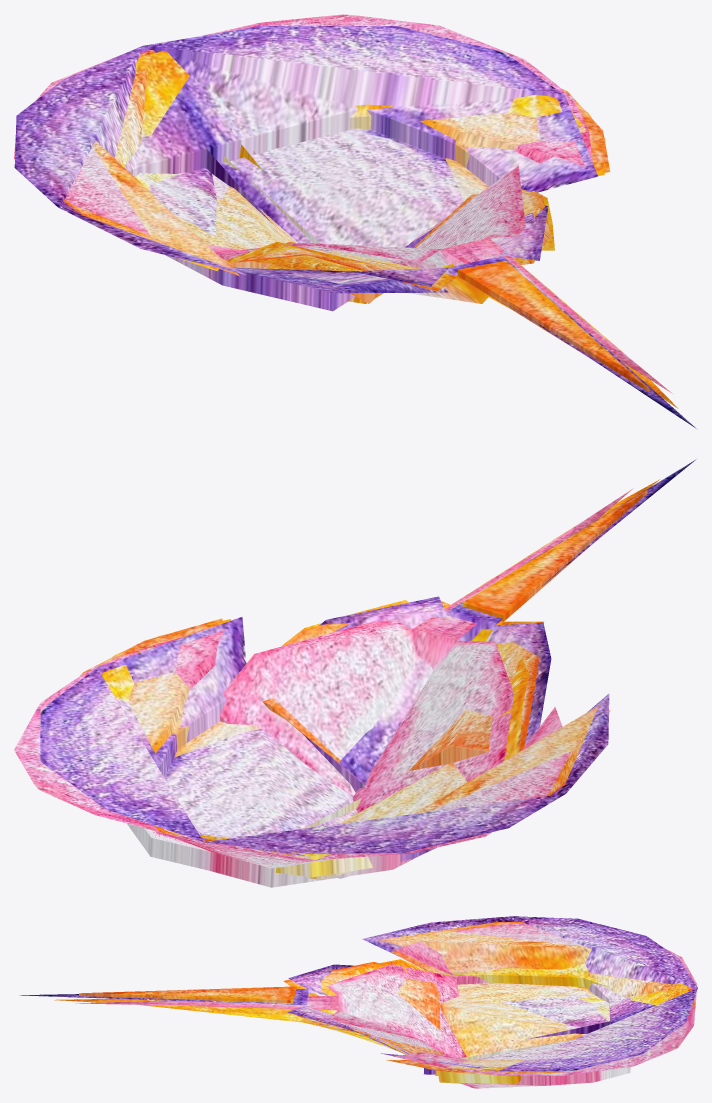
File: candy-crabs.glb
3 views of the same model, one above another, from view 1: azimuth 30°, elevation 25°; view 2: azimuth 150°, elevation 25°; view 3: azimuth 270°, elevation 25° (orthographic). The views are drawn at different scales.
Visible parts, largest first — view 1: Horseshoe Crabs Purple, Horseshoe Crab Orange, Horseshoe crabs Pink, Horseshoe Crab Yellow; view 2: Horseshoe Crabs Purple, Horseshoe crabs Pink, Horseshoe Crab Orange, Horseshoe Crab Yellow; view 3: Horseshoe Crab Orange, Horseshoe Crabs Purple, Horseshoe crabs Pink, Horseshoe Crab Yellow.
Part boxes in pixels (bbox=[...]): Horseshoe Crabs Purple: bbox=[14, 26, 697, 429]; Horseshoe Crab Orange: bbox=[64, 50, 649, 391]; Horseshoe crabs Pink: bbox=[14, 14, 672, 393]; Horseshoe Crab Yellow: bbox=[121, 51, 678, 408]; Horseshoe Crabs Purple: bbox=[40, 459, 696, 878]; Horseshoe crabs Pink: bbox=[14, 488, 633, 887]; Horseshoe Crab Orange: bbox=[68, 490, 647, 879]; Horseshoe Crab Yellow: bbox=[102, 479, 660, 877]; Horseshoe Crab Orange: bbox=[79, 922, 695, 1075]; Horseshoe Crabs Purple: bbox=[19, 916, 697, 1074]; Horseshoe crabs Pink: bbox=[75, 923, 697, 1088]; Horseshoe Crab Yellow: bbox=[54, 959, 687, 1084].
Bounding box in the file's own units: 1.67 × 0.4492 × 3.05.
4 materials, 4 textured.
